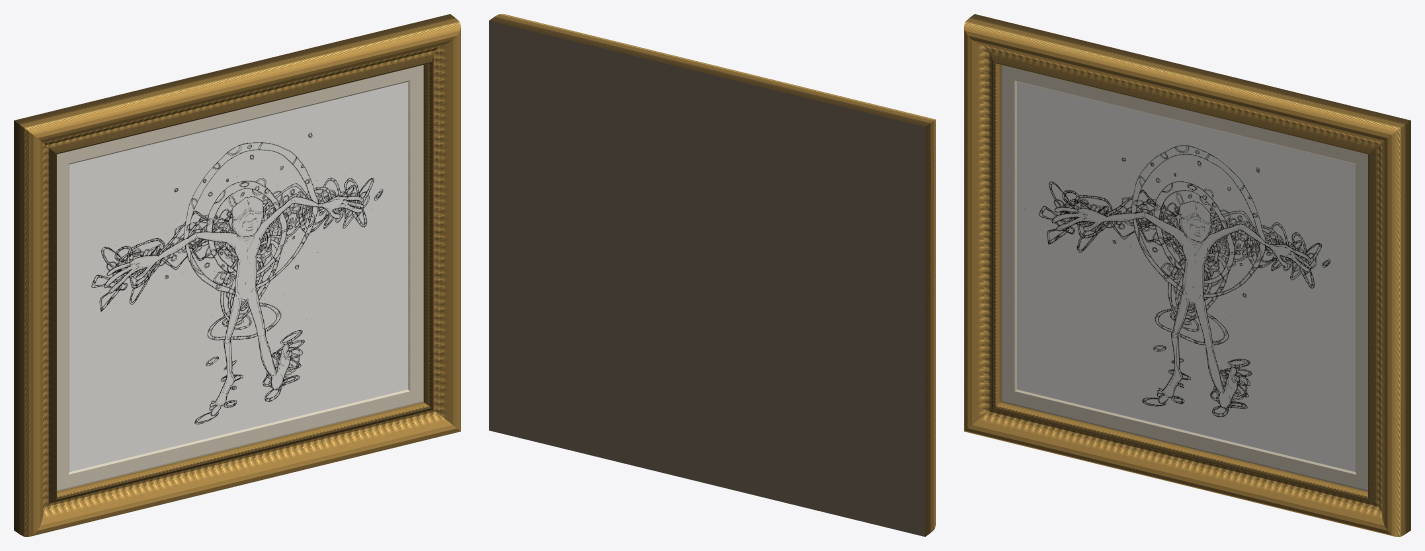
The picture shows the model from 3 angles, left to right: view 1: azimuth 30°, elevation 25°; view 2: azimuth 150°, elevation 25°; view 3: azimuth 330°, elevation 25°; orthographic projection.
Visible parts, largest first — view 1: Painting; view 2: Painting; view 3: Painting.
Part boxes in pixels (<box>): Painting: <box>14,14,460,536</box>; Painting: <box>489,14,935,536</box>; Painting: <box>964,14,1410,536</box>.
Bounding box in the file's own units: 0.8504 × 0.7634 × 0.051.
4 materials, 3 textured.
